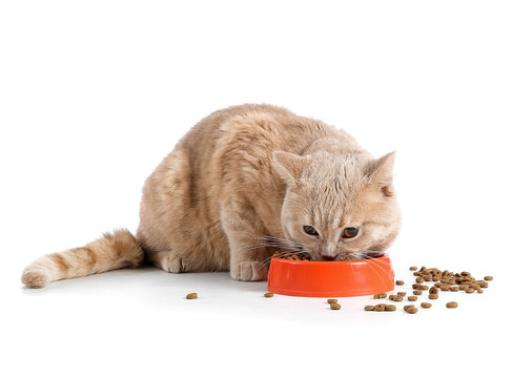cat_eating: (22, 104, 400, 295)
